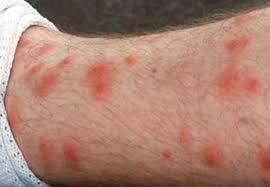Chiggers: (210, 60, 265, 110), (20, 58, 62, 100), (17, 33, 56, 60), (87, 62, 112, 100), (223, 30, 255, 57), (60, 139, 81, 171), (202, 144, 223, 166), (254, 145, 269, 173), (38, 139, 55, 163), (55, 54, 74, 70), (178, 126, 192, 147), (160, 145, 177, 162), (7, 107, 19, 130), (125, 55, 137, 65)
